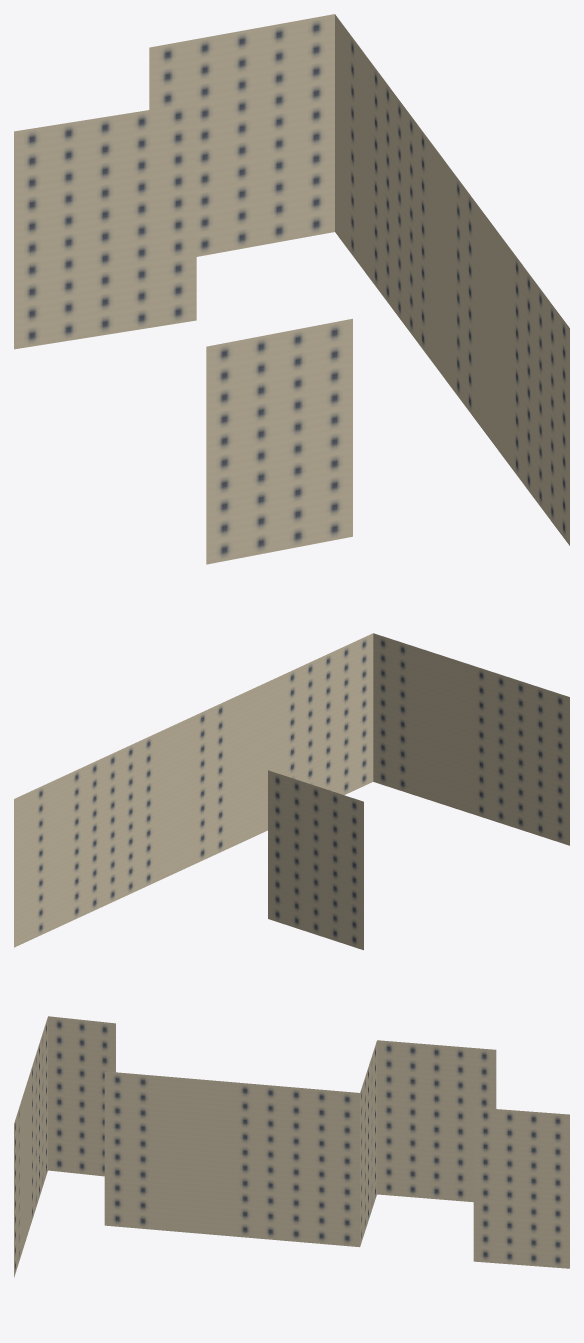
The picture shows the model from 3 angles, top to bottom: view 1: azimuth 30°, elevation 25°; view 2: azimuth 150°, elevation 25°; view 3: azimuth 270°, elevation 25°; orthographic projection. The views are drawn at different scales.
Size of the model in its own units: 66 by 30 by 98.
2 materials, 2 textured.
